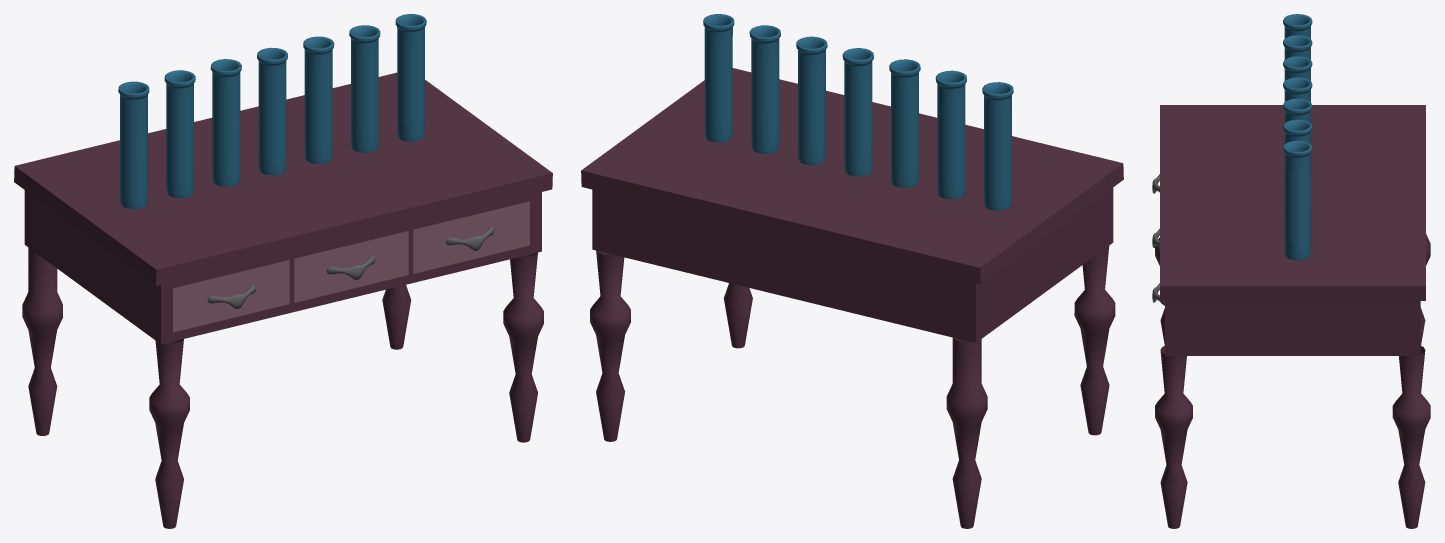
The model's file is SmallVialTable.fbx.
3 renders of one model, left to right at view 1: azimuth 30°, elevation 25°; view 2: azimuth 150°, elevation 25°; view 3: azimuth 270°, elevation 25°, orthographic. The views are drawn at different scales.
Parts seen in each view (by area): view 1: Cube.009; view 2: Cube.009; view 3: Cube.009.
Part boxes in pixels (bbox=[...]): Cube.009: bbox=[14, 14, 552, 528]; Cube.009: bbox=[581, 14, 1123, 528]; Cube.009: bbox=[1152, 14, 1430, 528].
Bounding box in the file's own units: 51.82 × 47.75 × 33.63.
